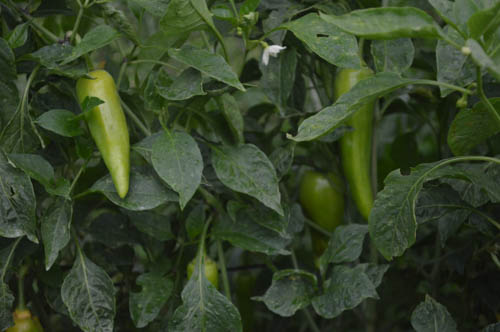ChiliPepper: (76, 71, 134, 196), (333, 66, 380, 216), (296, 173, 344, 253)
